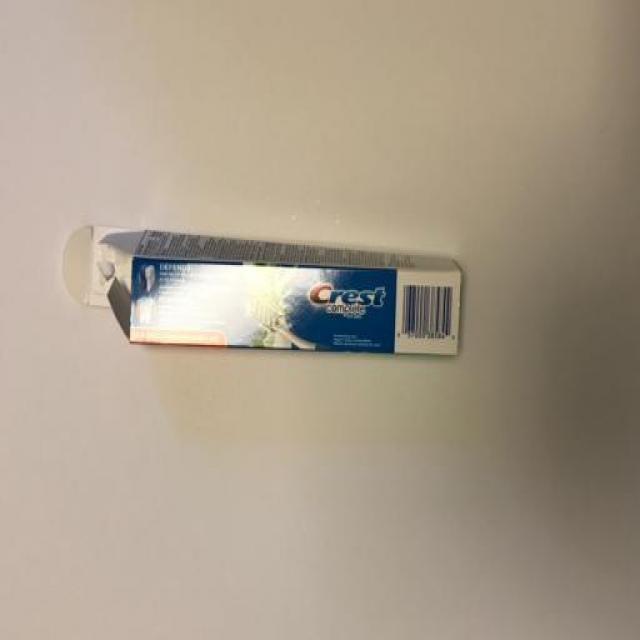paper: (27, 184, 501, 464)
